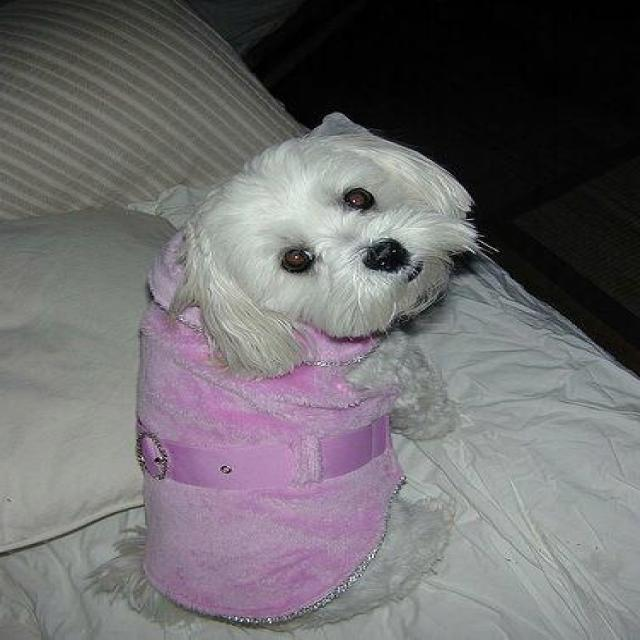maltese_dog: (65, 98, 495, 634)
